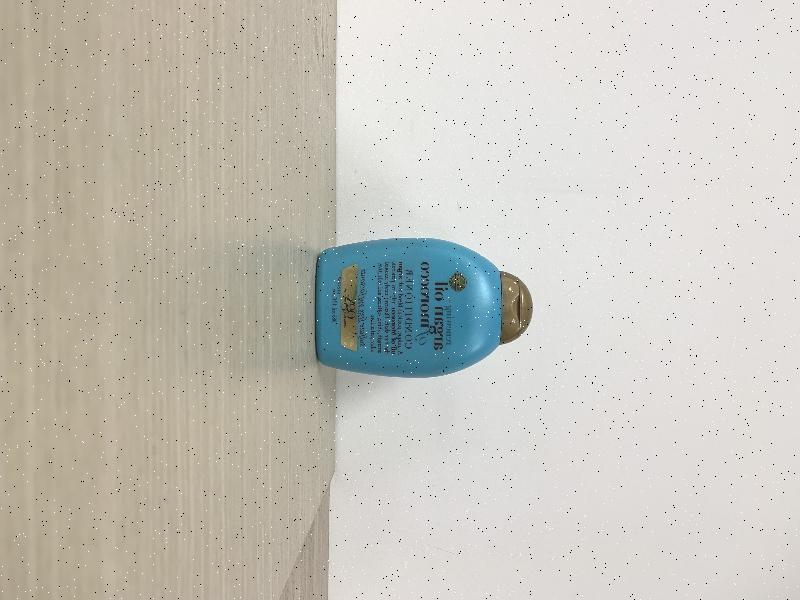ArganOilOfMorocco_Conditioner: (315, 239, 534, 378)
